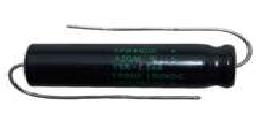Electrolytic Capacitor: (6, 18, 256, 114)
